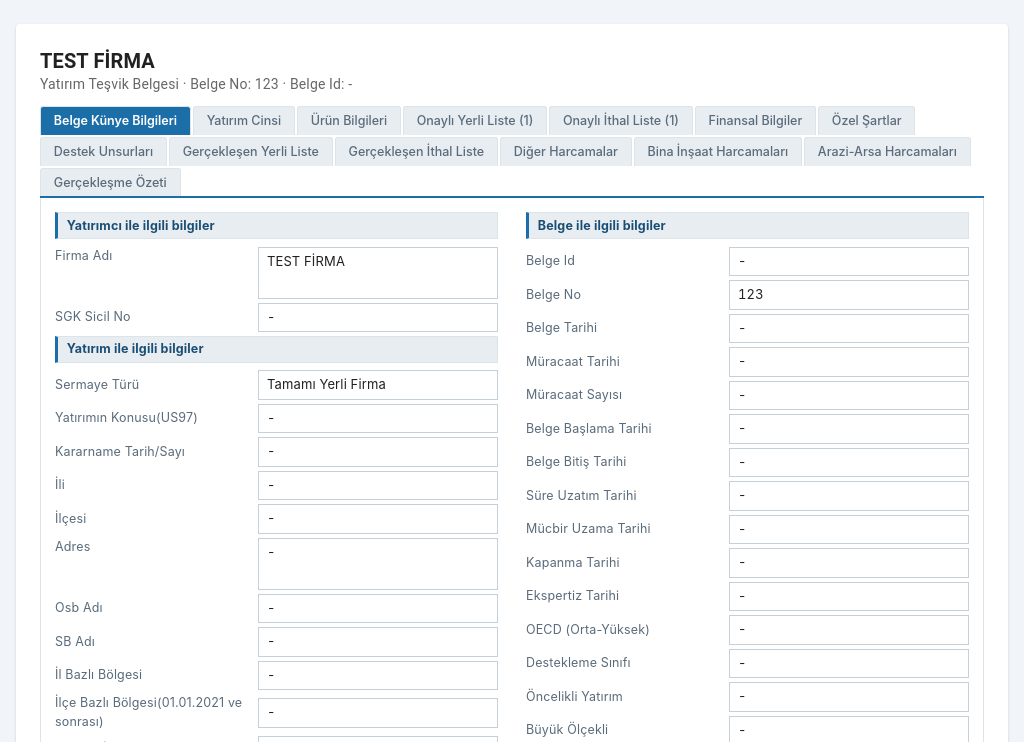
Test: müşteri belge düzenindeki onaylı listeleri salt okunur, gerçekleşen listeleri ayrı görür
What coordinates should you click on to do the following:
click the tab "Onaylı Yerli Liste (1)"
I would click on:
 (475, 120)
Its box is [403,106,547,135].
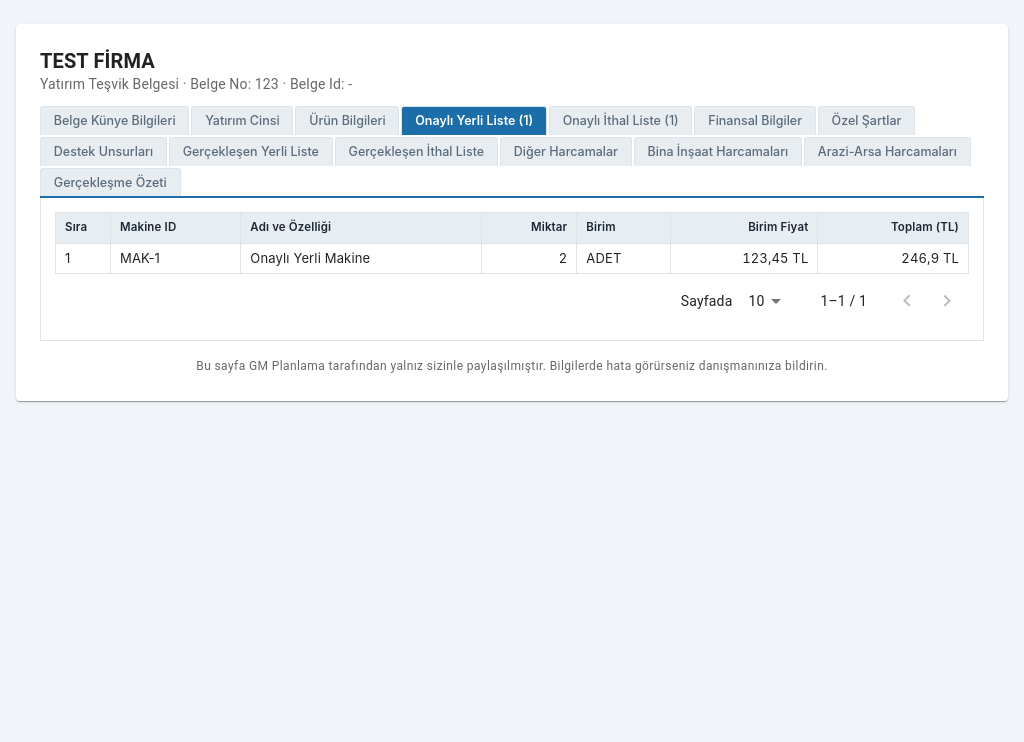
expect the column heading "Birim" is shown: met, box [577,213,670,243]
expect the row "1 MAK-1 Onaylı Yerli Makine 2 ADET 123,45 TL 246,9 TL" is shown: met, box [56,243,968,274]
What coordinates should you click on to do the following:
click the tab "Onaylı İthal Liste (1)"
I would click on:
 (621, 120)
Its box is [549,106,692,135].
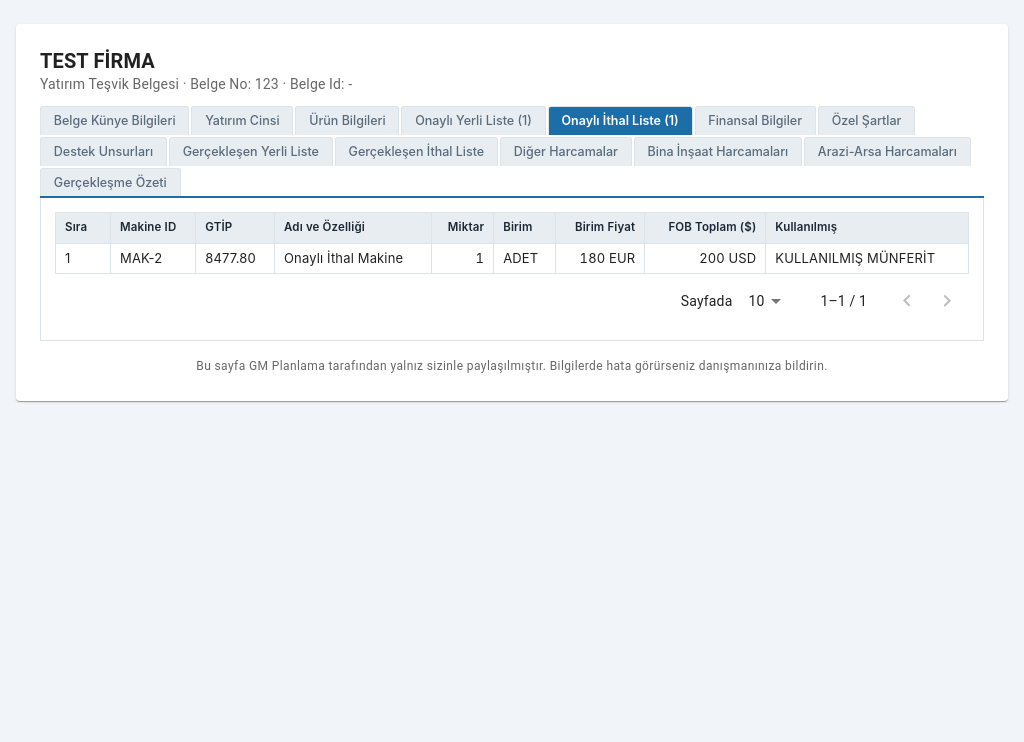
expect the text "BEYAN-1" is not shown: met
expect the column heading "Kullanılmış" is shown: met, box [766,213,968,243]
expect the row that starts with "MAK-2" is shown: met, box [56,243,968,274]
What coordinates should you click on to do the following:
click the tab "Gerçekleşen İthal Liste"
I would click on:
 (416, 151)
Its box is [335,137,498,166].
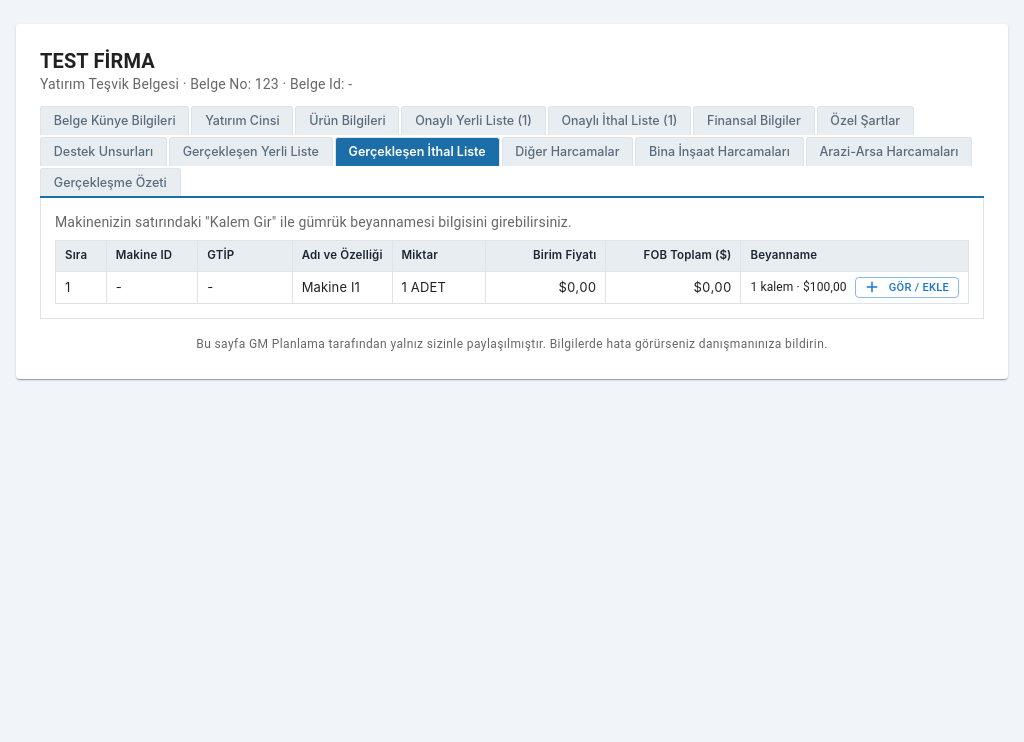
What coordinates should you click on to do the following:
click the button "Gör / Ekle"
I would click on:
 (907, 287)
Its box is [855,277,959,298].
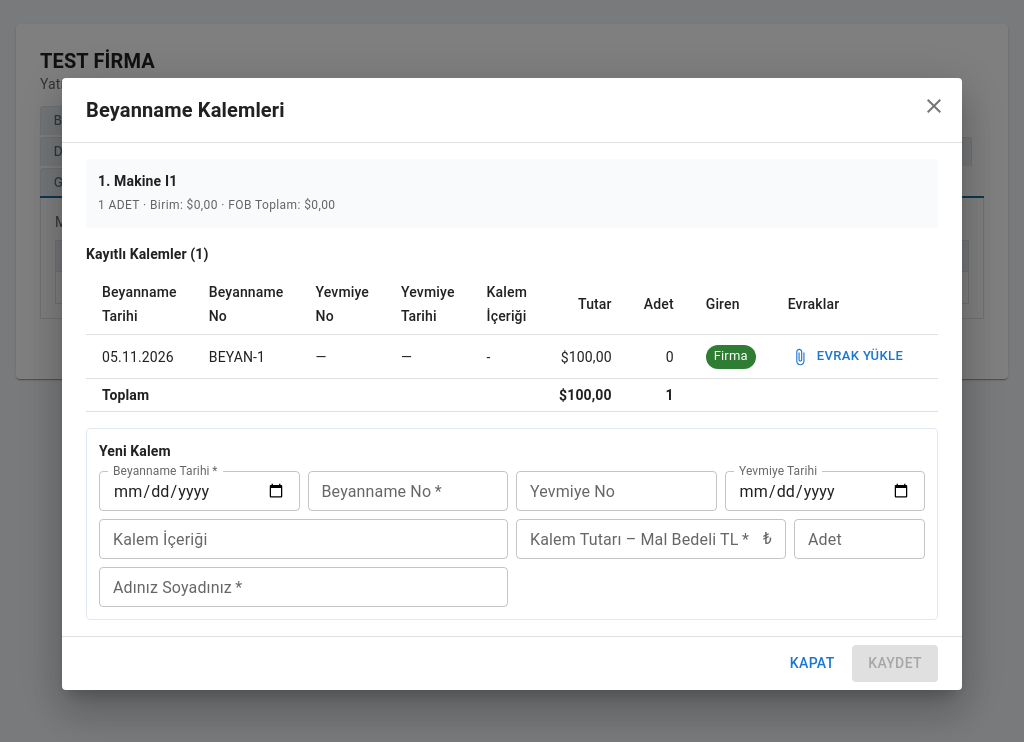
expect the text "BEYAN-1" is shown: met, box [193,335,300,379]
